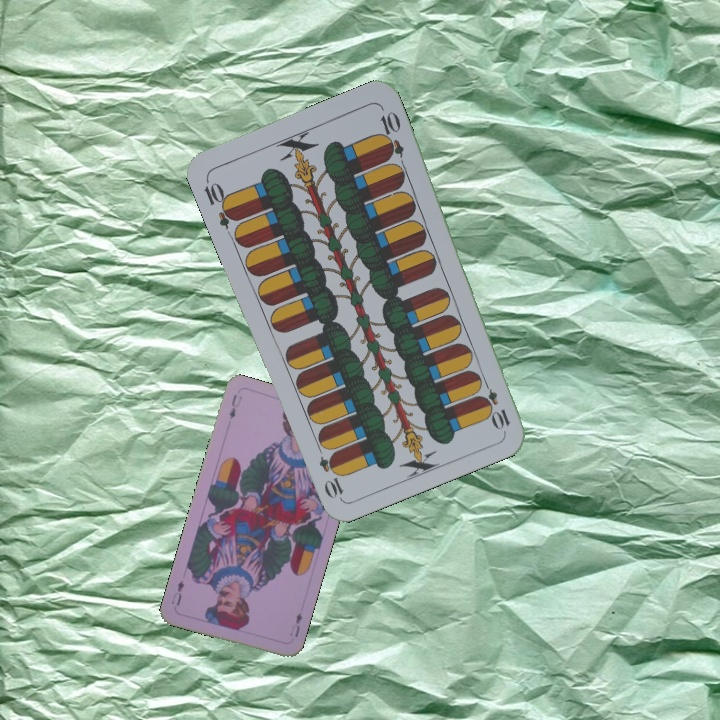E10: (200, 174, 240, 231), (477, 375, 513, 432)
EU: (225, 390, 245, 421), (286, 608, 305, 639)
